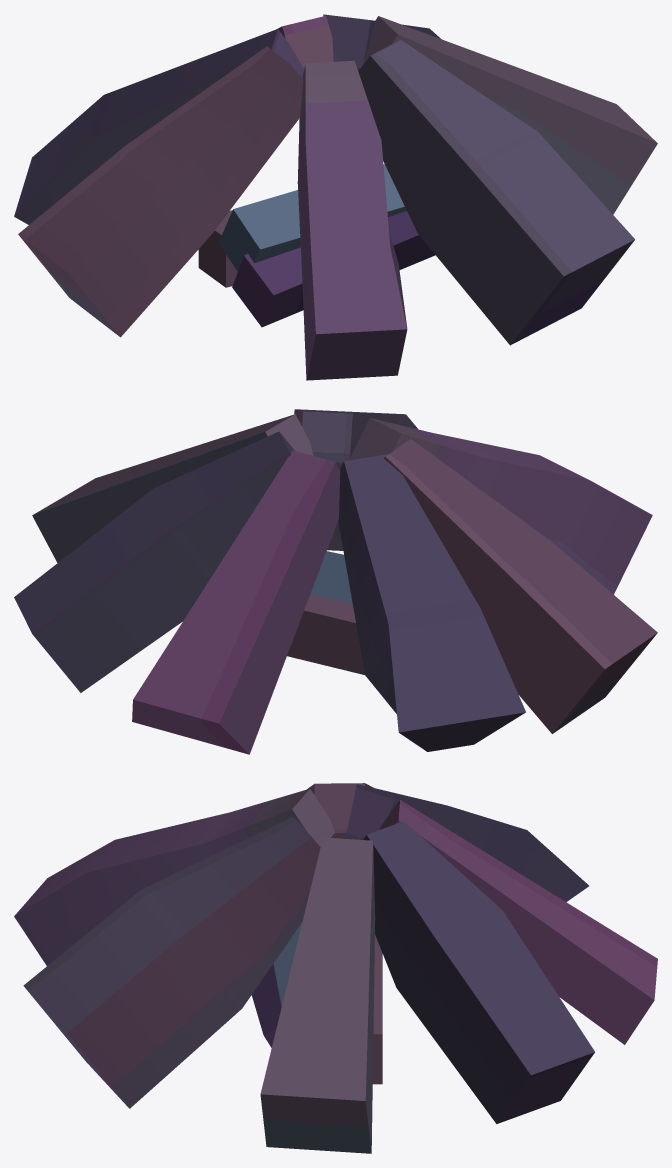
File: Firewood.fbx
3 renders of one model, top to bottom at view 1: azimuth 30°, elevation 25°; view 2: azimuth 150°, elevation 25°; view 3: azimuth 270°, elevation 25°, orthographic.
Visible parts, largest first — view 1: Firewood; view 2: Firewood; view 3: Firewood.
Boxes of the visible parts, x1,y1,x2,y2 form: Firewood: (14, 14, 657, 380); Firewood: (14, 409, 657, 754); Firewood: (14, 783, 657, 1153).
Bounding box in the file's own units: 1.6 × 0.6069 × 1.51.
